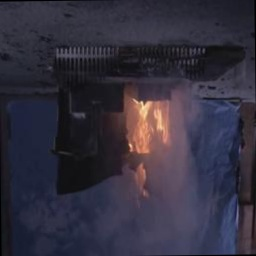fire: (112, 87, 185, 199)
